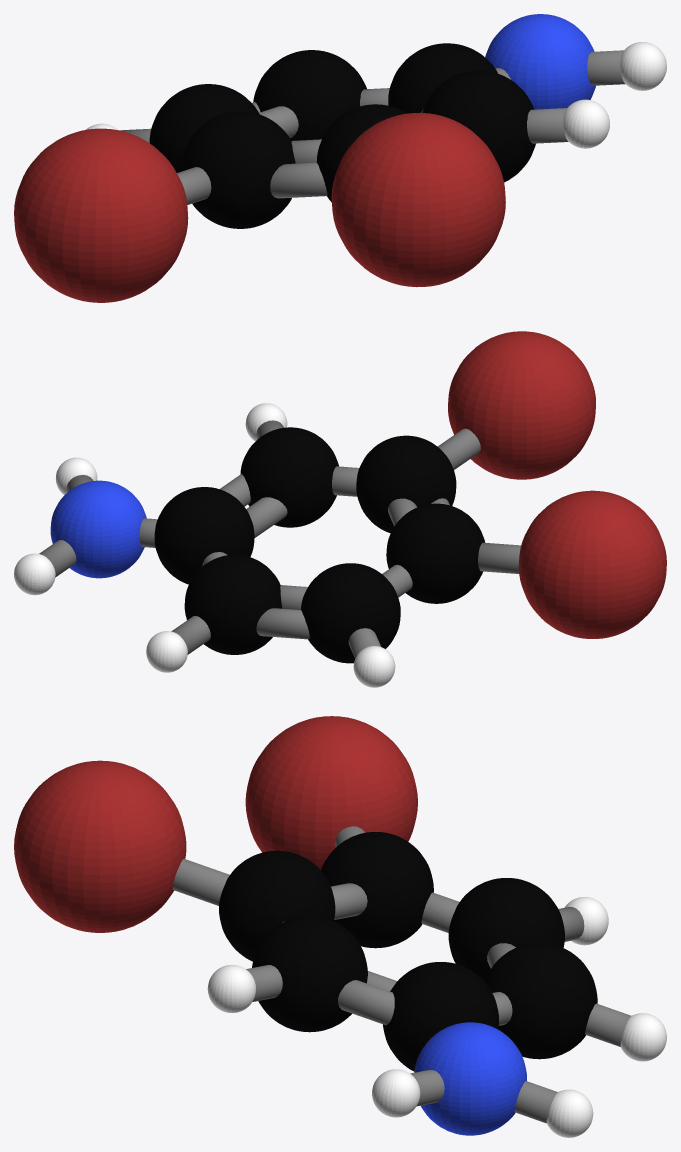
File: DIBROMOANILINA.obj
3 renders of one model, top to bottom at view 1: azimuth 30°, elevation 25°; view 2: azimuth 150°, elevation 25°; view 3: azimuth 270°, elevation 25°, orthographic. The views are drawn at different scales.
Parts seen in each view (by area): view 1: Bromine_ball_Sphere.001, Carbon_ball_Sphere.002, Nitrogen_ball_Sphere.003, Hydrogen_ball_Sphere, Stick_Cylinder.014_Cylinder.014, Stick_Cylinder.012_Cylinder.012, Stick_Cylinder.001_Cylinder.001, Stick_Cylinder.005_Cylinder.005, Stick_Cylinder.007_Cylinder.007, Stick_Cylinder.004_Cylinder.004, Stick_Cylinder.009_Cylinder.009; view 2: Carbon_ball_Sphere.002, Bromine_ball_Sphere.001, Nitrogen_ball_Sphere.003, Hydrogen_ball_Sphere, Stick_Cylinder.015_Cylinder.015, Stick_Cylinder.005_Cylinder.005, Stick_Cylinder.002_Cylinder.002, Stick_Cylinder.016_Cylinder.016, Stick_Cylinder.008_Cylinder.008, Stick_Cylinder_Cylinder, Stick_Cylinder.006_Cylinder.006, Stick_Cylinder.003_Cylinder.003 (+3 smaller); view 3: Carbon_ball_Sphere.002, Bromine_ball_Sphere.001, Nitrogen_ball_Sphere.003, Hydrogen_ball_Sphere, Stick_Cylinder.013_Cylinder.013, Stick_Cylinder.002_Cylinder.002, Stick_Cylinder.008_Cylinder.008, Stick_Cylinder_Cylinder, Stick_Cylinder.004_Cylinder.004, Stick_Cylinder.003_Cylinder.003, Stick_Cylinder.012_Cylinder.012, Stick_Cylinder.001_Cylinder.001 (+1 smaller).
Boxes of the visible parts, box(x1,y1,x2,y2) form: Bromine_ball_Sphere.001: box(14, 112, 505, 302); Carbon_ball_Sphere.002: box(149, 43, 535, 228); Nitrogen_ball_Sphere.003: box(485, 14, 595, 109); Hydrogen_ball_Sphere: box(86, 42, 666, 148); Stick_Cylinder.014_Cylinder.014: box(270, 162, 327, 198); Stick_Cylinder.012_Cylinder.012: box(527, 108, 568, 143); Stick_Cylinder.001_Cylinder.001: box(587, 50, 625, 85); Stick_Cylinder.005_Cylinder.005: box(177, 167, 211, 204); Stick_Cylinder.007_Cylinder.007: box(259, 106, 298, 137); Stick_Cylinder.004_Cylinder.004: box(291, 139, 321, 163); Stick_Cylinder.009_Cylinder.009: box(360, 88, 389, 106); Carbon_ball_Sphere.002: box(154, 427, 485, 663); Bromine_ball_Sphere.001: box(448, 331, 666, 638); Nitrogen_ball_Sphere.003: box(50, 480, 146, 578); Hydrogen_ball_Sphere: box(14, 403, 395, 687); Stick_Cylinder.015_Cylinder.015: box(256, 608, 309, 639); Stick_Cylinder.005_Cylinder.005: box(478, 542, 521, 573); Stick_Cylinder.002_Cylinder.002: box(438, 428, 480, 469); Stick_Cylinder.016_Cylinder.016: box(246, 497, 287, 537); Stick_Cylinder.008_Cylinder.008: box(171, 616, 210, 654); Stick_Cylinder_Cylinder: box(39, 540, 76, 577); Stick_Cylinder.006_Cylinder.006: box(332, 466, 359, 496); Stick_Cylinder.003_Cylinder.003: box(382, 564, 412, 597); Carbon_ball_Sphere.002: box(219, 832, 597, 1071); Bromine_ball_Sphere.001: box(14, 716, 417, 932); Nitrogen_ball_Sphere.003: box(414, 1022, 526, 1135); Hydrogen_ball_Sphere: box(207, 897, 666, 1137); Stick_Cylinder.013_Cylinder.013: box(338, 980, 394, 1025); Stick_Cylinder.002_Cylinder.002: box(172, 859, 229, 905); Stick_Cylinder.008_Cylinder.008: box(585, 1003, 631, 1046); Stick_Cylinder_Cylinder: box(514, 1081, 557, 1123); Stick_Cylinder.004_Cylinder.004: box(331, 883, 367, 919); Stick_Cylinder.003_Cylinder.003: box(421, 892, 459, 932); Stick_Cylinder.012_Cylinder.012: box(246, 965, 282, 1001); Stick_Cylinder.001_Cylinder.001: box(410, 1070, 444, 1106).
Bounding box in the file's own units: 9.1 × 3.01 × 7.77.
